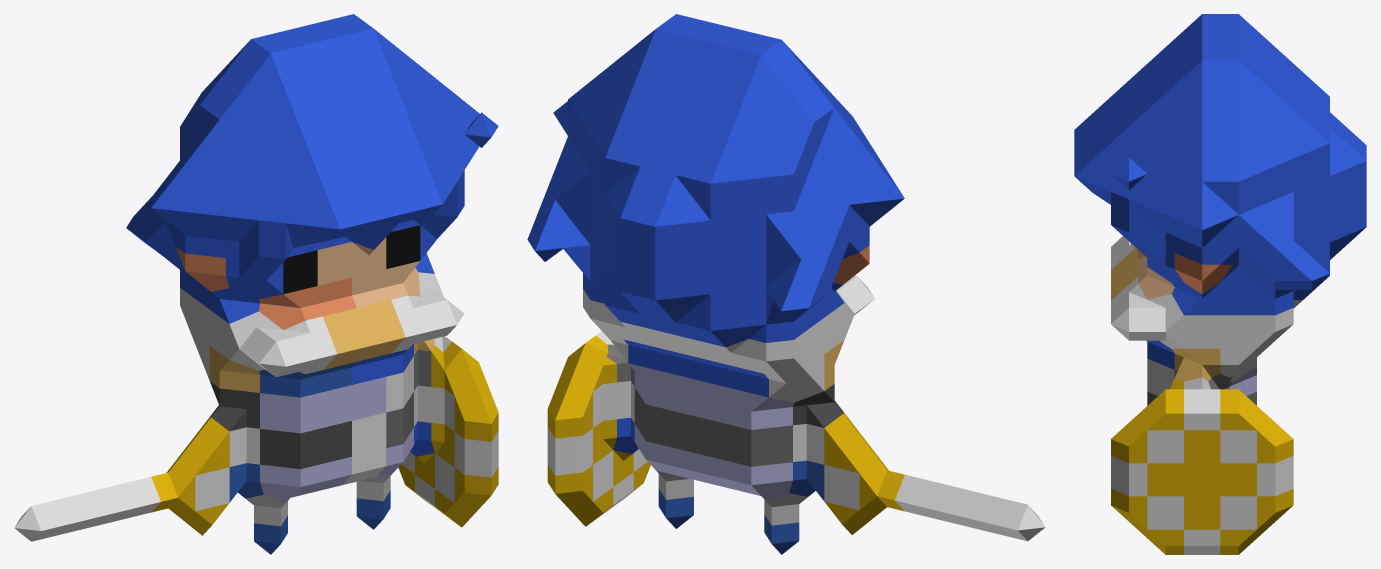
File: untitledSoup.fbx
3 views of the same model, side by side, from view 1: azimuth 30°, elevation 25°; view 2: azimuth 150°, elevation 25°; view 3: azimuth 270°, elevation 25° (orthographic). The views are drawn at different scales.
Parts seen in each view (by area): view 1: chr_sword; view 2: chr_sword; view 3: chr_sword.
Boxes of the visible parts, bbox=[...] form: chr_sword: bbox=[14, 14, 498, 554]; chr_sword: bbox=[527, 14, 1045, 554]; chr_sword: bbox=[1074, 14, 1366, 554].
Size of the model in its own units: 1400 by 1400 by 800.
